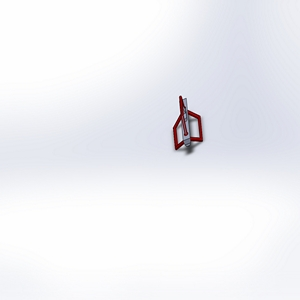submarine: (148, 89, 226, 157)
